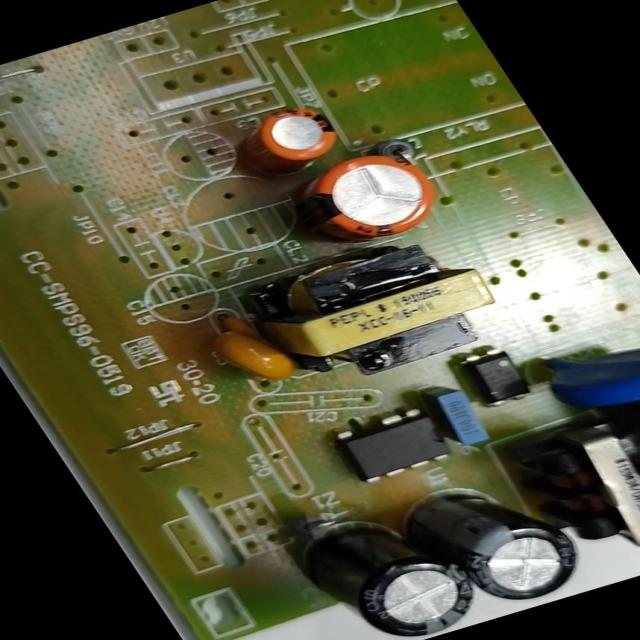Cap1: (274, 132, 478, 258)
Cap2: (207, 90, 365, 188)
Cap3: (389, 458, 605, 624)
Cap4: (264, 482, 507, 640)
MOSFET: (313, 398, 468, 490)
Mov: (522, 318, 639, 430)
Transformer: (212, 215, 532, 404), (492, 400, 640, 571)
